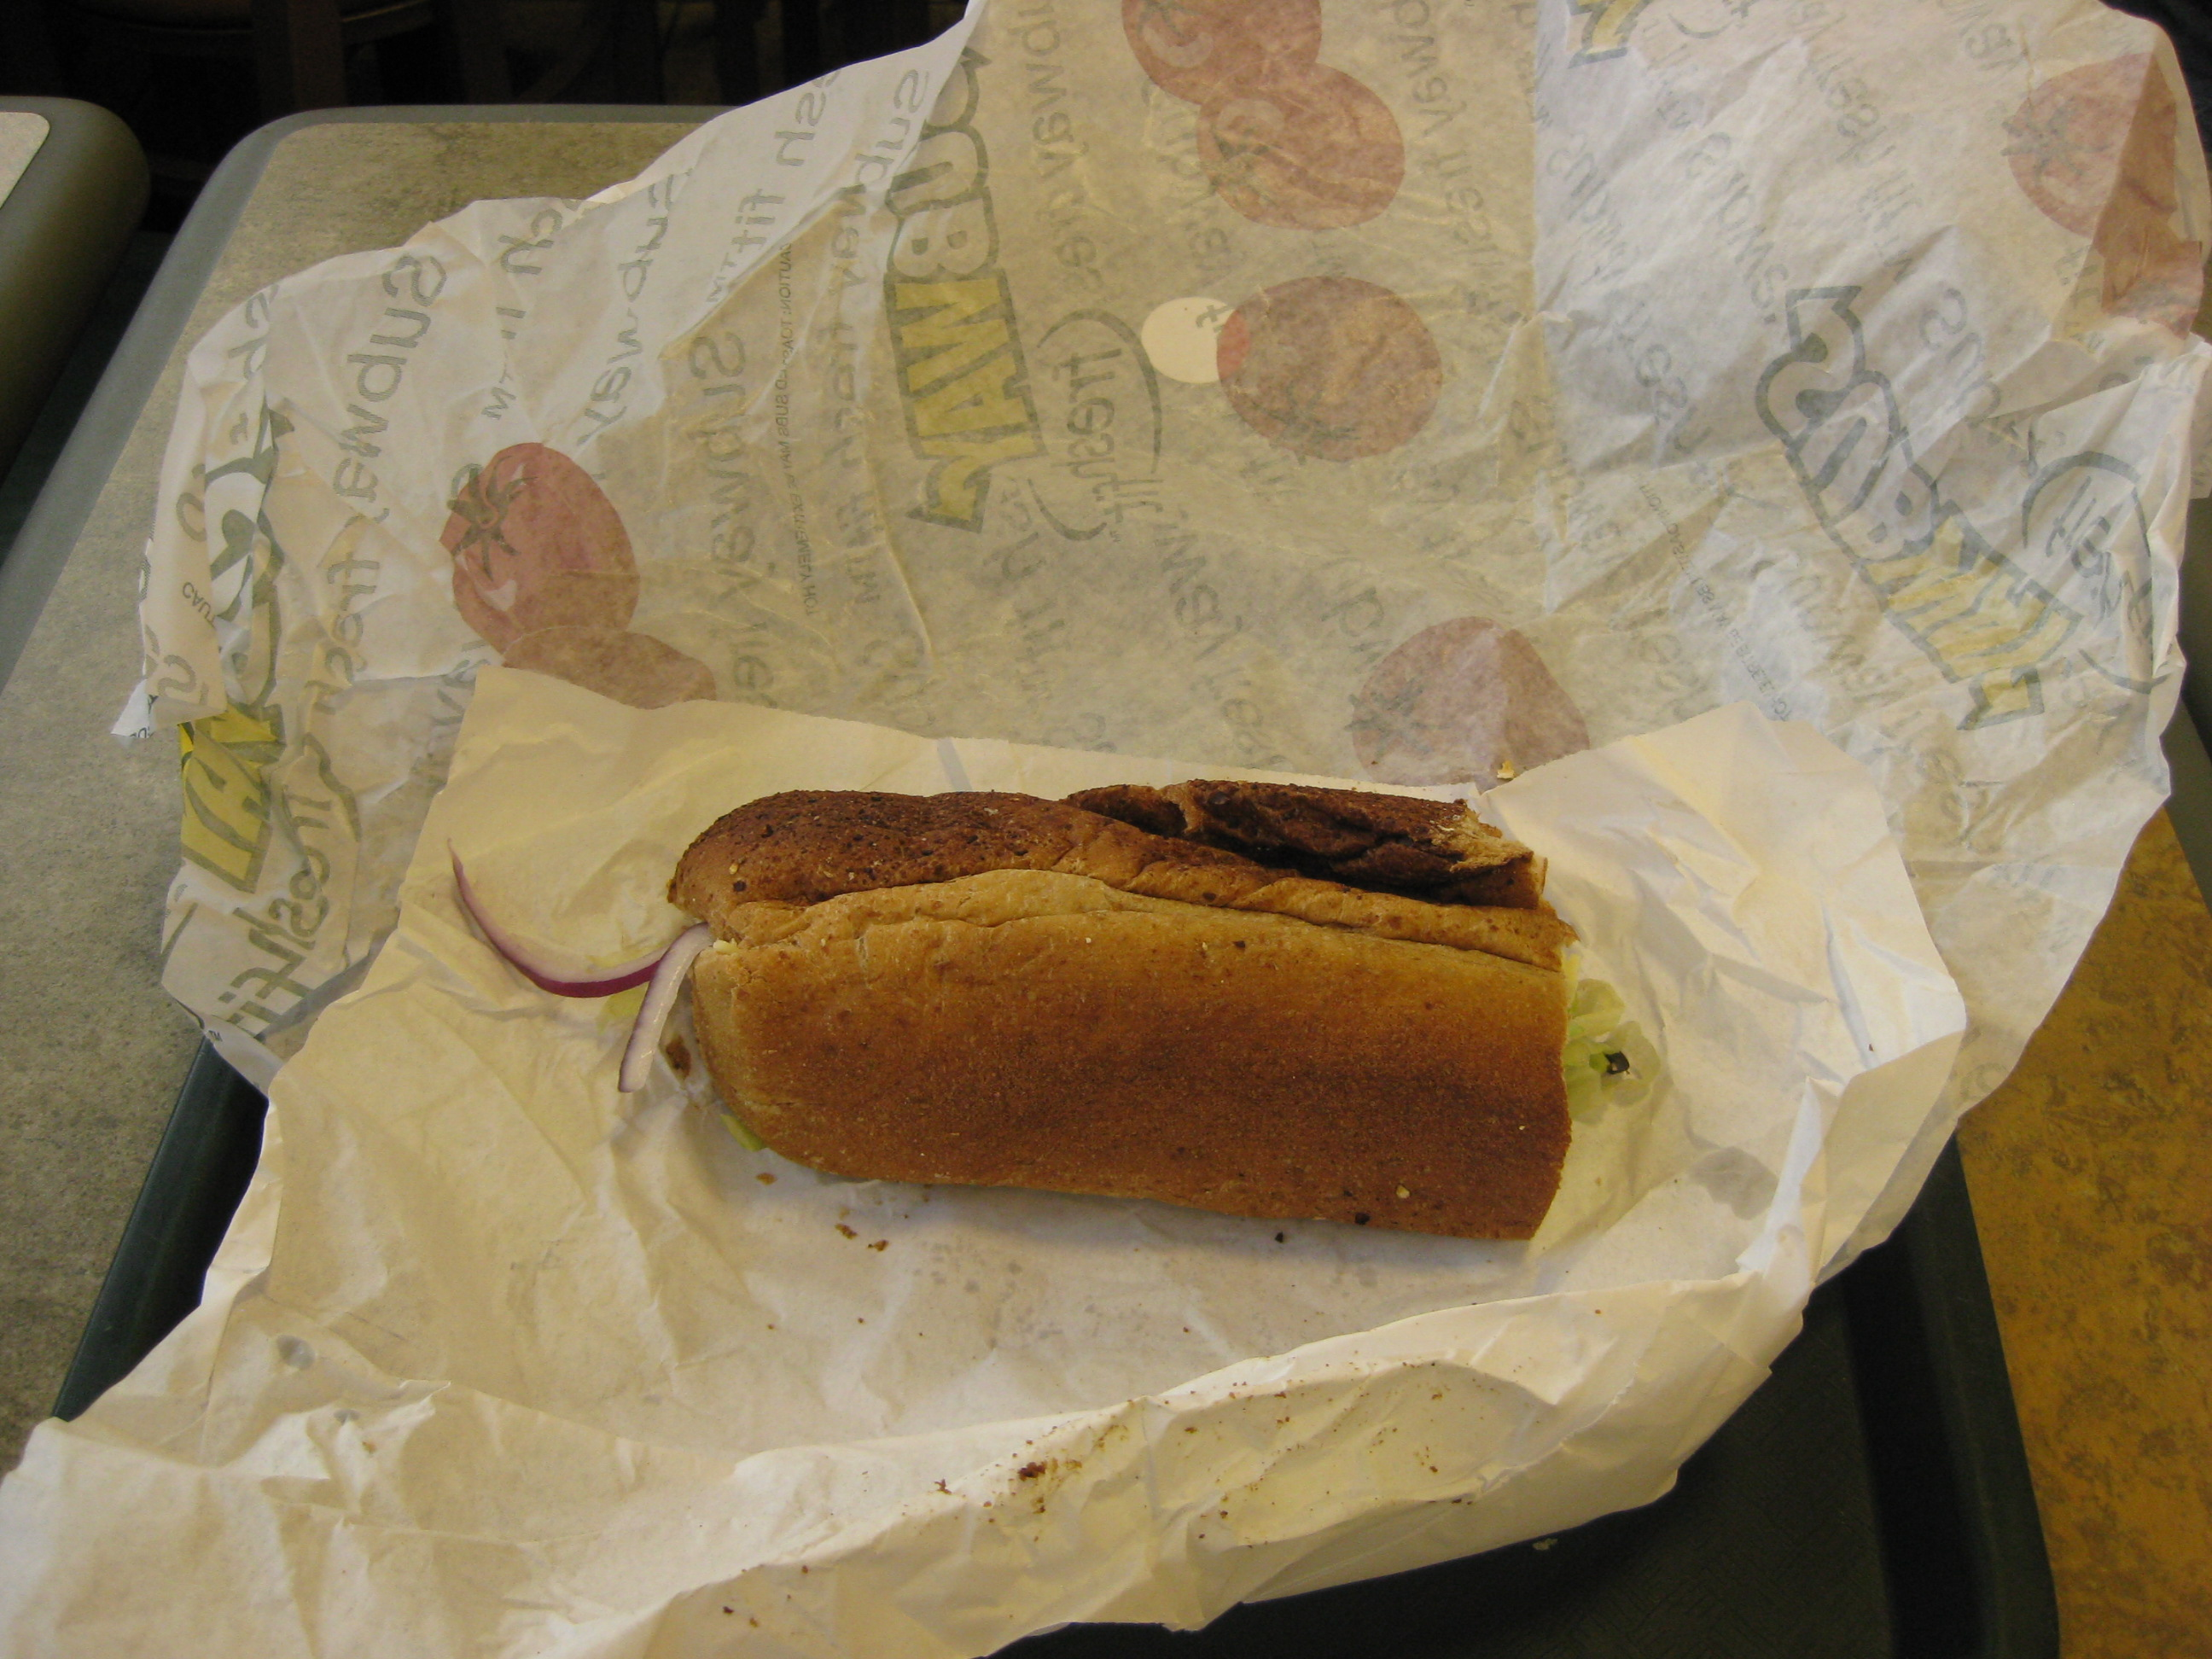sub: (629, 739, 1670, 1270)
